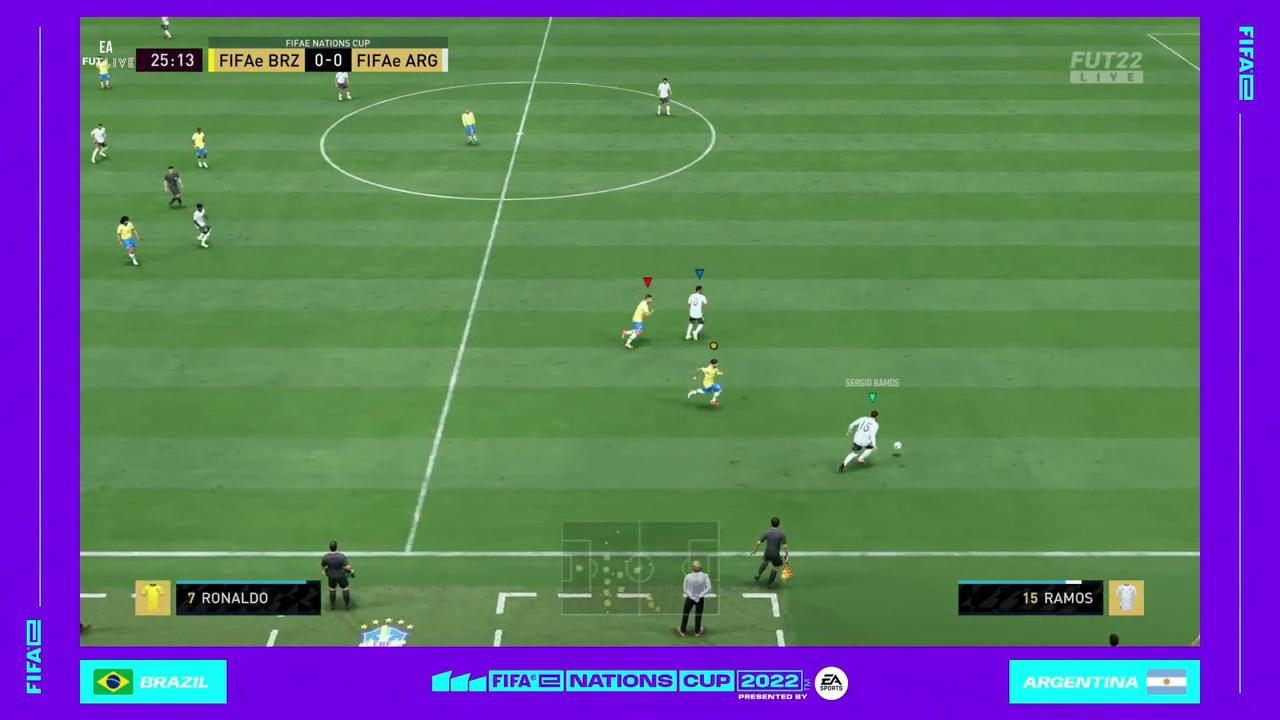scoreboard: (208, 47, 446, 73)
timestamp: (139, 48, 203, 73)
